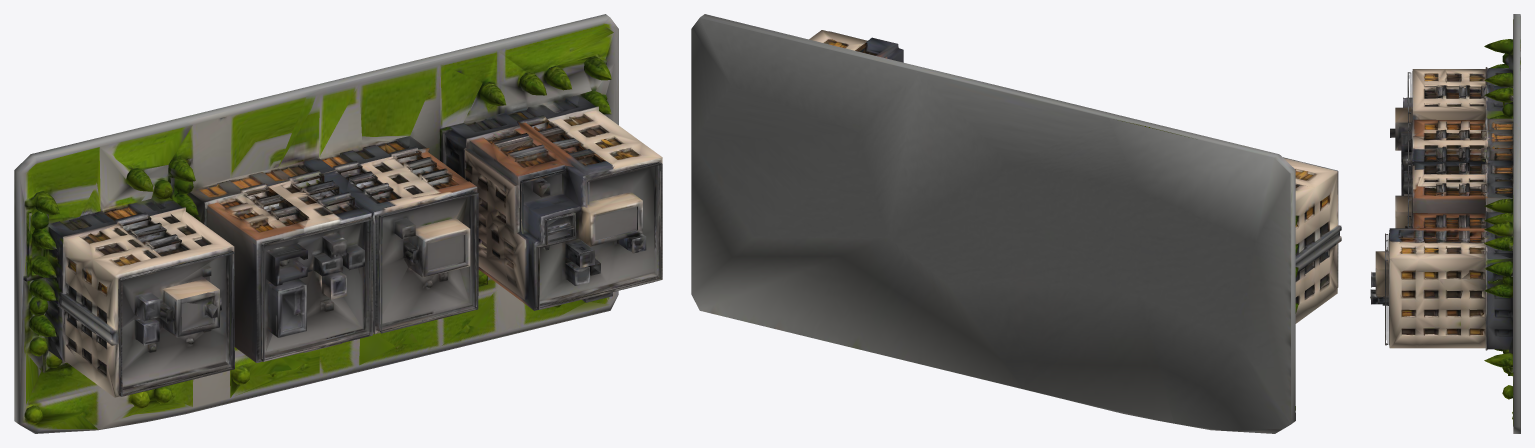
The model's file is gorodskie_doma.glb.
3 renders of one model, left to right at view 1: azimuth 30°, elevation 25°; view 2: azimuth 150°, elevation 25°; view 3: azimuth 270°, elevation 25°, orthographic. The views are drawn at different scales.
Visible parts, largest first — view 1: gorodskie_doma; view 2: gorodskie_doma; view 3: gorodskie_doma.
Part boxes in pixels (x1,y1,x2,y2): gorodskie_doma: (14,14,662,433); gorodskie_doma: (691,14,1341,433); gorodskie_doma: (1370,14,1520,433).
Size of the model in its own units: 60.54 by 28.29 by 18.
1 material, 1 textured.
